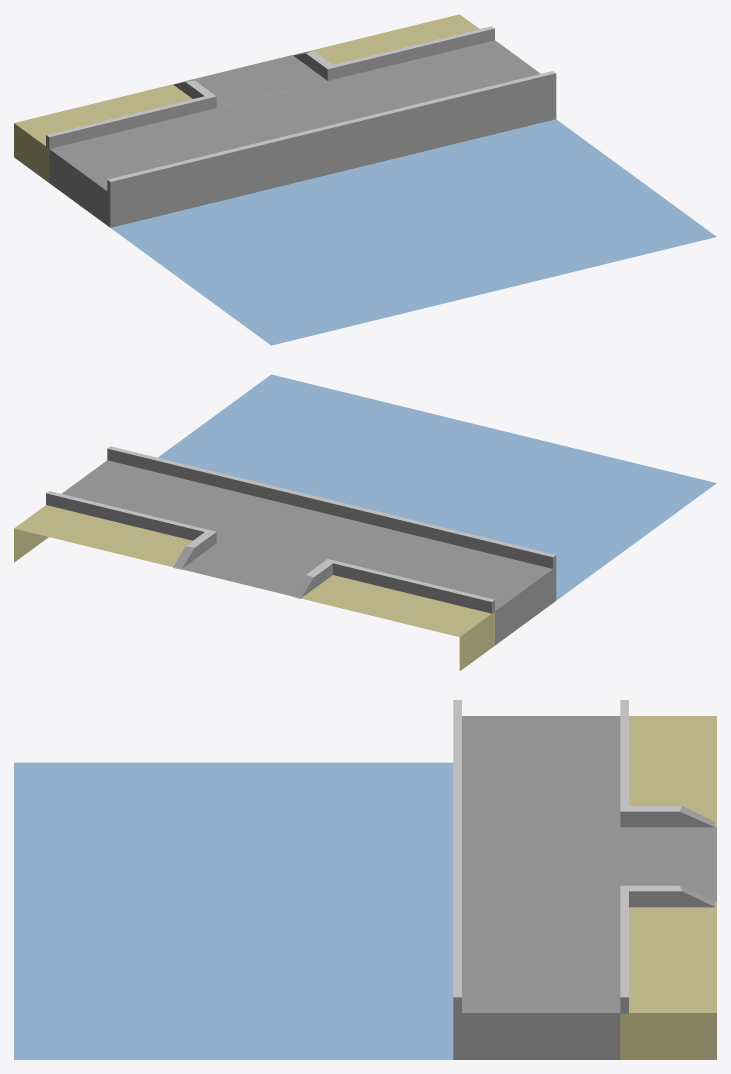
Rendered from port_tile_2x2_001.fbx.
3 views of the same model, one above another, from view 1: azimuth 30°, elevation 25°; view 2: azimuth 150°, elevation 25°; view 3: azimuth 270°, elevation 25° (orthographic). The views are drawn at different scales.
Parts seen in each view (by area): view 1: port_tile_2x2_001; view 2: port_tile_2x2_001; view 3: port_tile_2x2_001.
Part boxes in pixels (x1,y1,x2,y2): port_tile_2x2_001: (14,14,716,345); port_tile_2x2_001: (14,374,716,670); port_tile_2x2_001: (14,700,716,1059).
Size of the model in its own units: 1600 by 158 by 1600.
